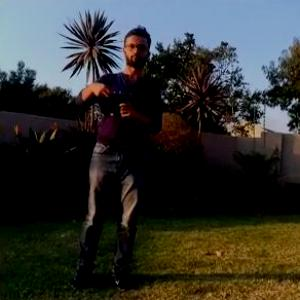follow: (64, 19, 164, 296)
